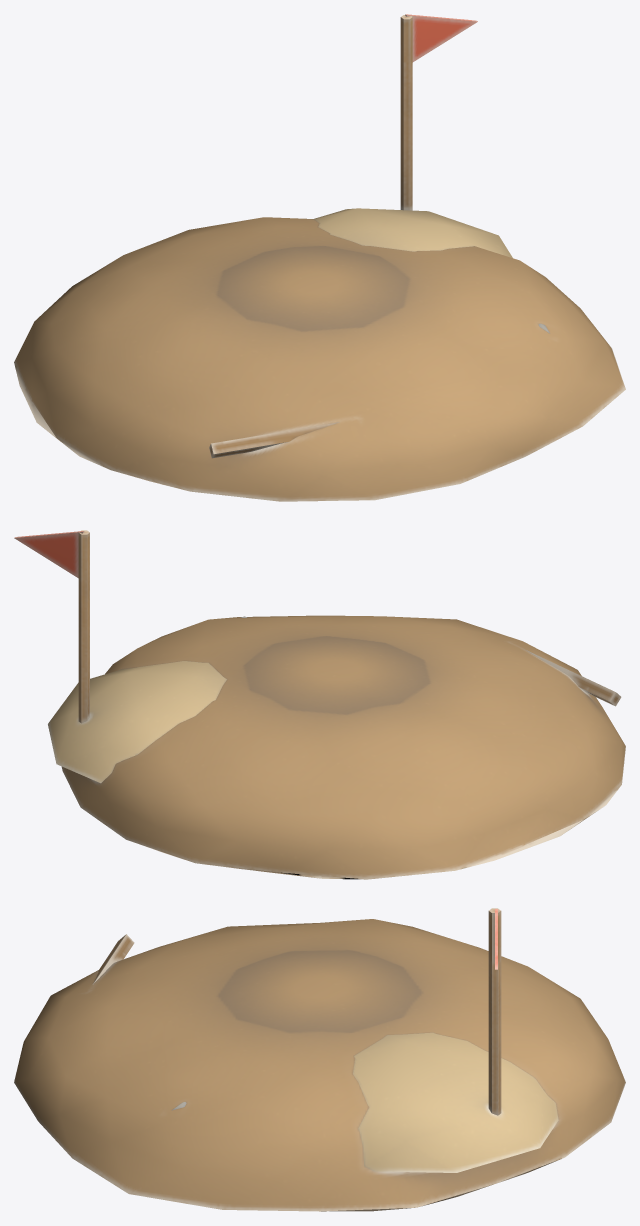
Rendered from node_sand.glb.
The picture shows the model from 3 angles, top to bottom: view 1: azimuth 30°, elevation 25°; view 2: azimuth 150°, elevation 25°; view 3: azimuth 270°, elevation 25°; orthographic projection. The views are drawn at different scales.
Visible parts, largest first — view 1: SM_NodeSand; view 2: SM_NodeSand; view 3: SM_NodeSand.
Boxes of the visible parts, x1,y1,x2,y2 form: SM_NodeSand: (14,14,625,501); SM_NodeSand: (14,530,625,879); SM_NodeSand: (14,908,625,1211).
Bounding box in the file's own units: 1.57 × 0.7718 × 1.58.
1 material, 1 textured.
